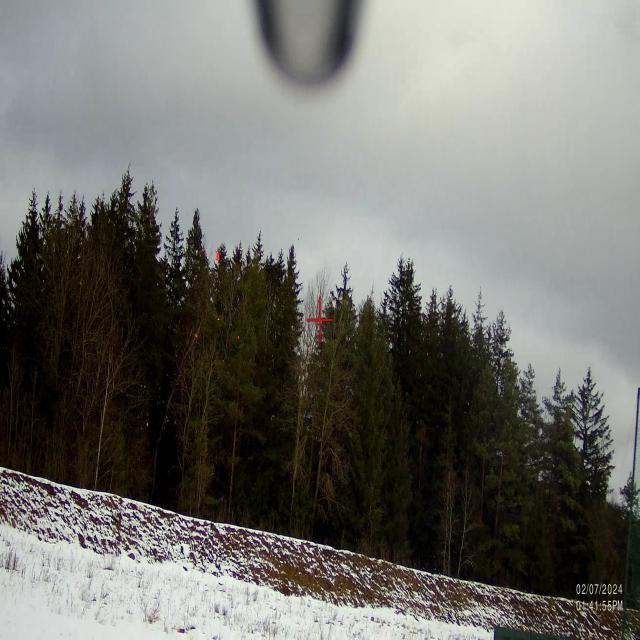broken: (179, 237, 250, 357)
